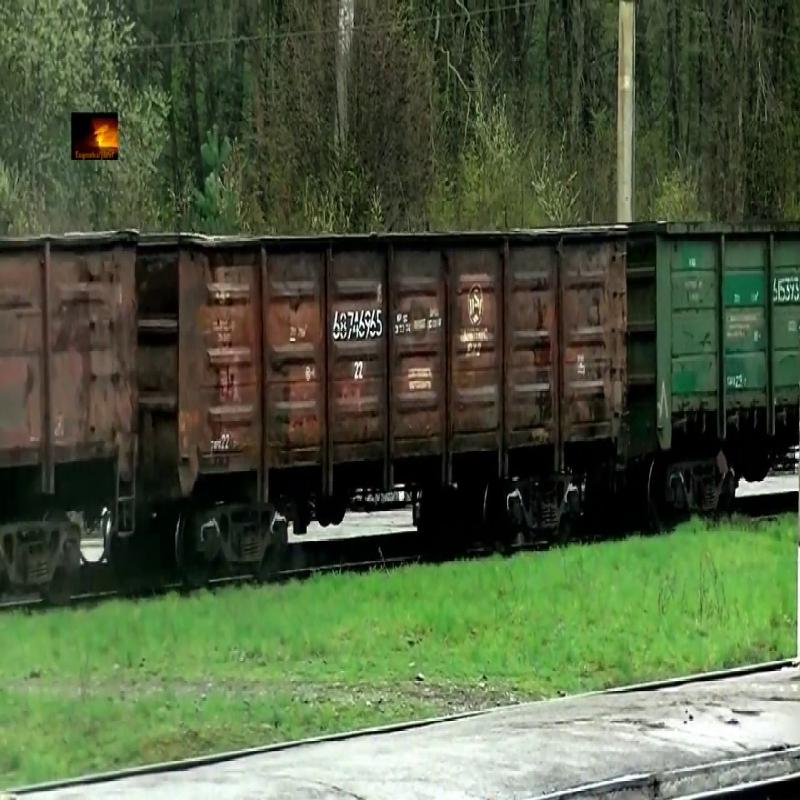train: (141, 224, 629, 498), (632, 216, 800, 456), (1, 224, 141, 495)
